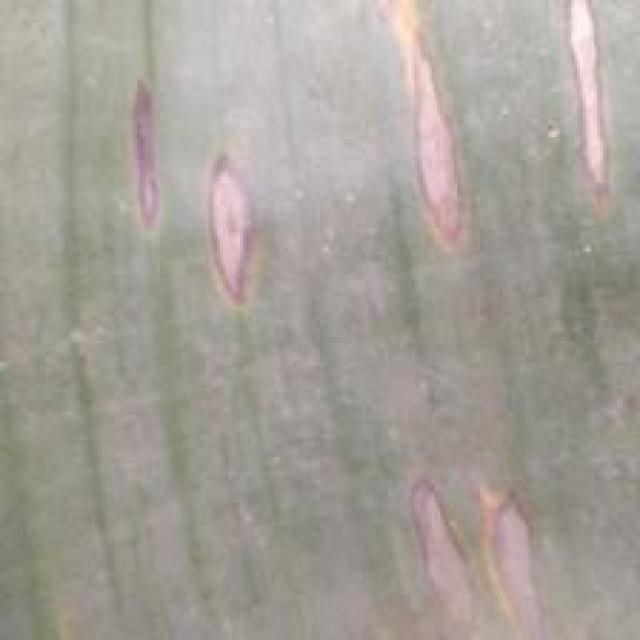Early_leaf_spot: (352, 0, 484, 245), (408, 457, 542, 638), (181, 124, 269, 332), (549, 0, 617, 226), (104, 73, 174, 231)
